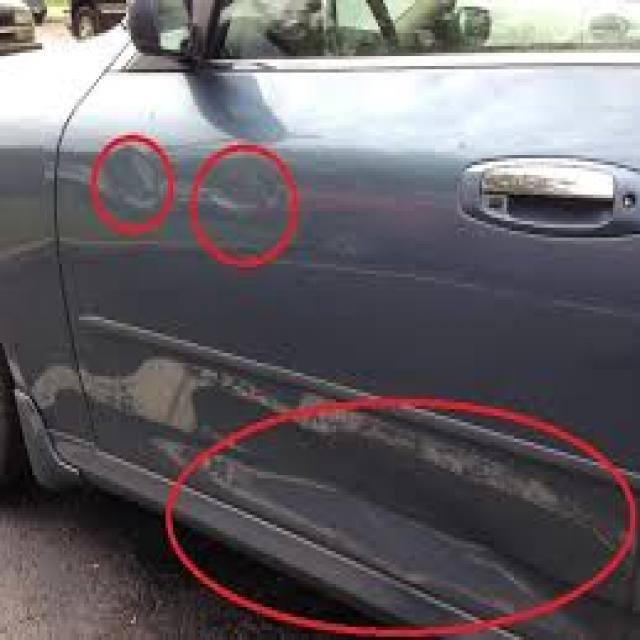moderate: (222, 461, 589, 581), (211, 170, 272, 222), (107, 158, 155, 208)
